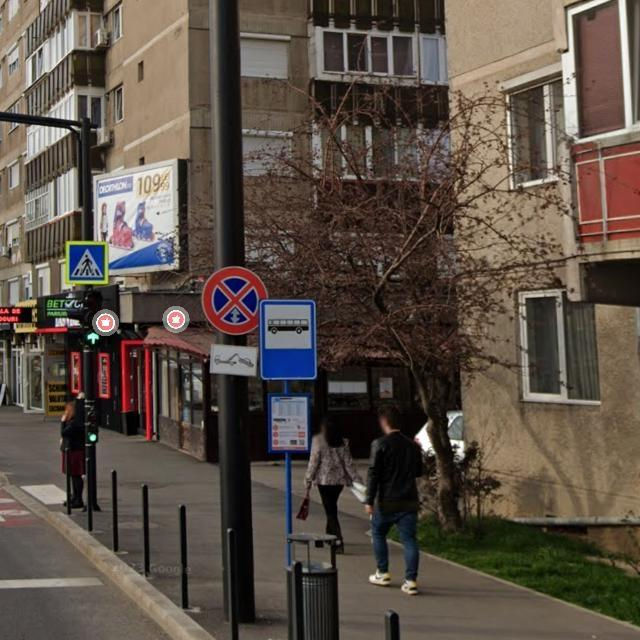forb_waiting: (201, 265, 268, 335)
info_crosswalk: (65, 240, 109, 285)
